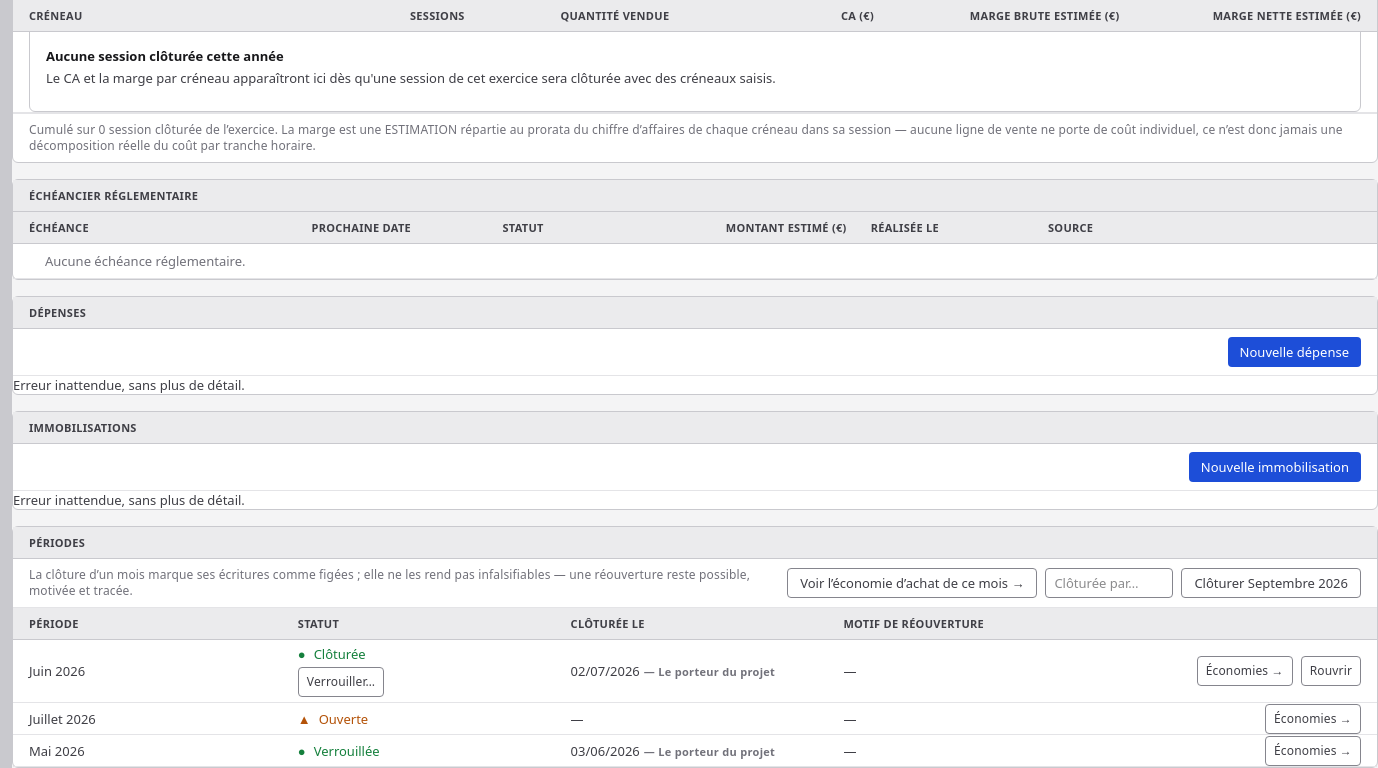
Test: Comptabilité — le verrou définitif ne se pose jamais par accident › un impact qui ÉCHOUE refuse le geste, reste dans le registre NEUTRE, et donne le focus à « Fermer »
The image size is (1378, 768).
(page scrolled)
Click the button "Verrouiller…" at (341, 682), box [298,667,384,697]
(page scrolled)
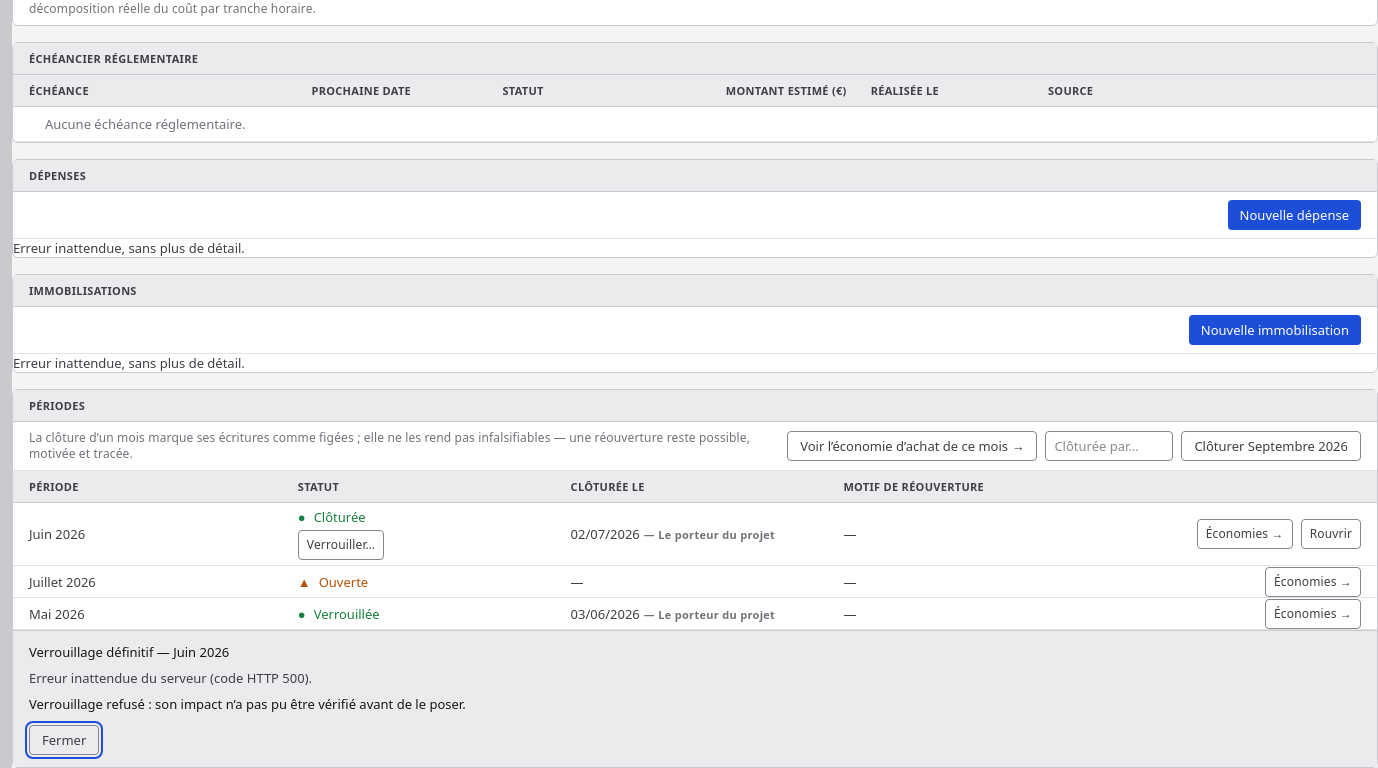
Result: the text "Verrouillage définitif — Juin 2026" is shown at [29,643,229,661]
Result: the text "Verrouillage refusé" is shown at [29,695,466,713]
